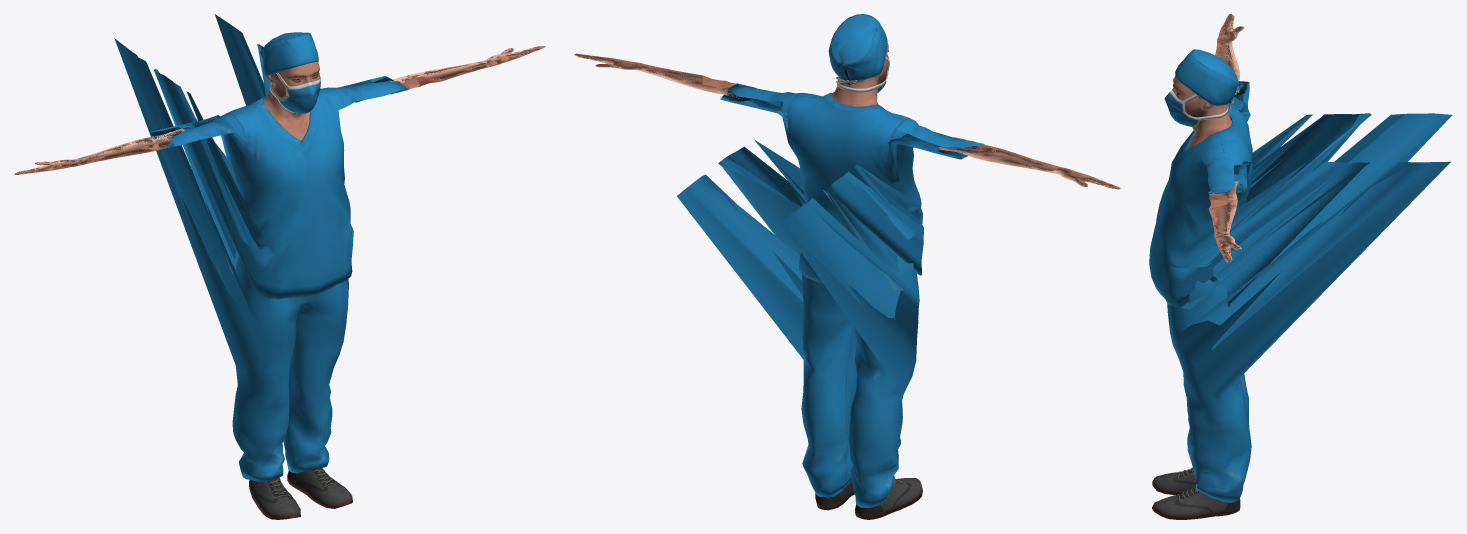
File: Surgeon_pose.obj
The picture shows the model from 3 angles, left to right: view 1: azimuth 30°, elevation 25°; view 2: azimuth 150°, elevation 25°; view 3: azimuth 270°, elevation 25°; orthographic projection. The views are drawn at different scales.
Visible parts, largest first — view 1: Tops, Bottoms, Body, Shoes, Hats, Masks; view 2: Bottoms, Tops, Body, Hats, Shoes; view 3: Bottoms, Tops, Body, Shoes, Hats, Masks.
Boxes of the visible parts, bbox=[...] form: Tops: bbox=[150, 44, 408, 299]; Bottoms: bbox=[114, 14, 348, 481]; Body: bbox=[14, 46, 545, 174]; Shoes: bbox=[249, 468, 352, 519]; Hats: bbox=[262, 32, 318, 76]; Masks: bbox=[270, 72, 320, 113]; Bottoms: bbox=[677, 174, 919, 507]; Tops: bbox=[718, 83, 984, 291]; Body: bbox=[574, 42, 1120, 189]; Hats: bbox=[828, 14, 887, 86]; Shoes: bbox=[815, 478, 922, 519]; Bottoms: bbox=[1167, 113, 1452, 502]; Tops: bbox=[1149, 81, 1371, 309]; Body: bbox=[1172, 14, 1244, 262]; Shoes: bbox=[1152, 467, 1240, 519]; Hats: bbox=[1175, 49, 1238, 109]; Masks: bbox=[1164, 89, 1228, 126].
Bounding box in the file's own units: 213 × 179 × 110.
1 material, 1 textured.
